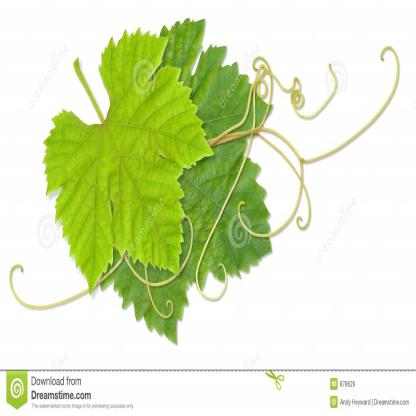grape leaf: (39, 21, 216, 310)
